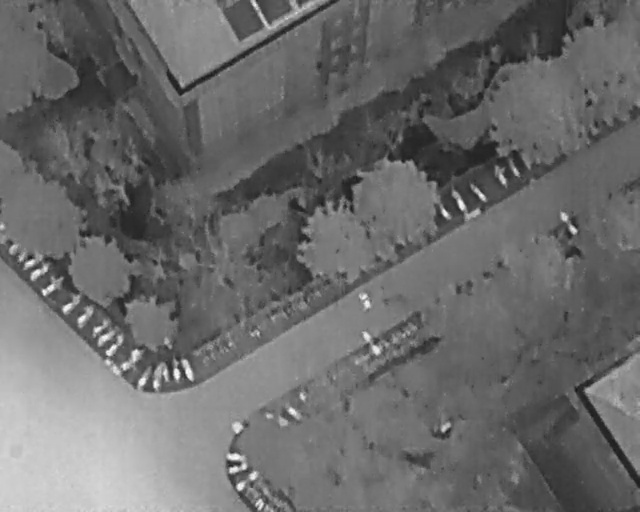Bicycle: (70, 303, 98, 332), (93, 323, 121, 349), (38, 273, 68, 297), (58, 290, 85, 316), (499, 152, 523, 179), (448, 187, 471, 215), (489, 161, 511, 190), (466, 181, 492, 205), (103, 333, 127, 359), (18, 251, 45, 273), (89, 315, 114, 338), (134, 365, 153, 393), (178, 356, 196, 383), (28, 261, 52, 281), (227, 460, 253, 476), (435, 199, 452, 222), (160, 361, 172, 384), (153, 365, 163, 391), (172, 356, 181, 383), (226, 452, 250, 462)
Person: (363, 298, 373, 313), (357, 290, 367, 303)
